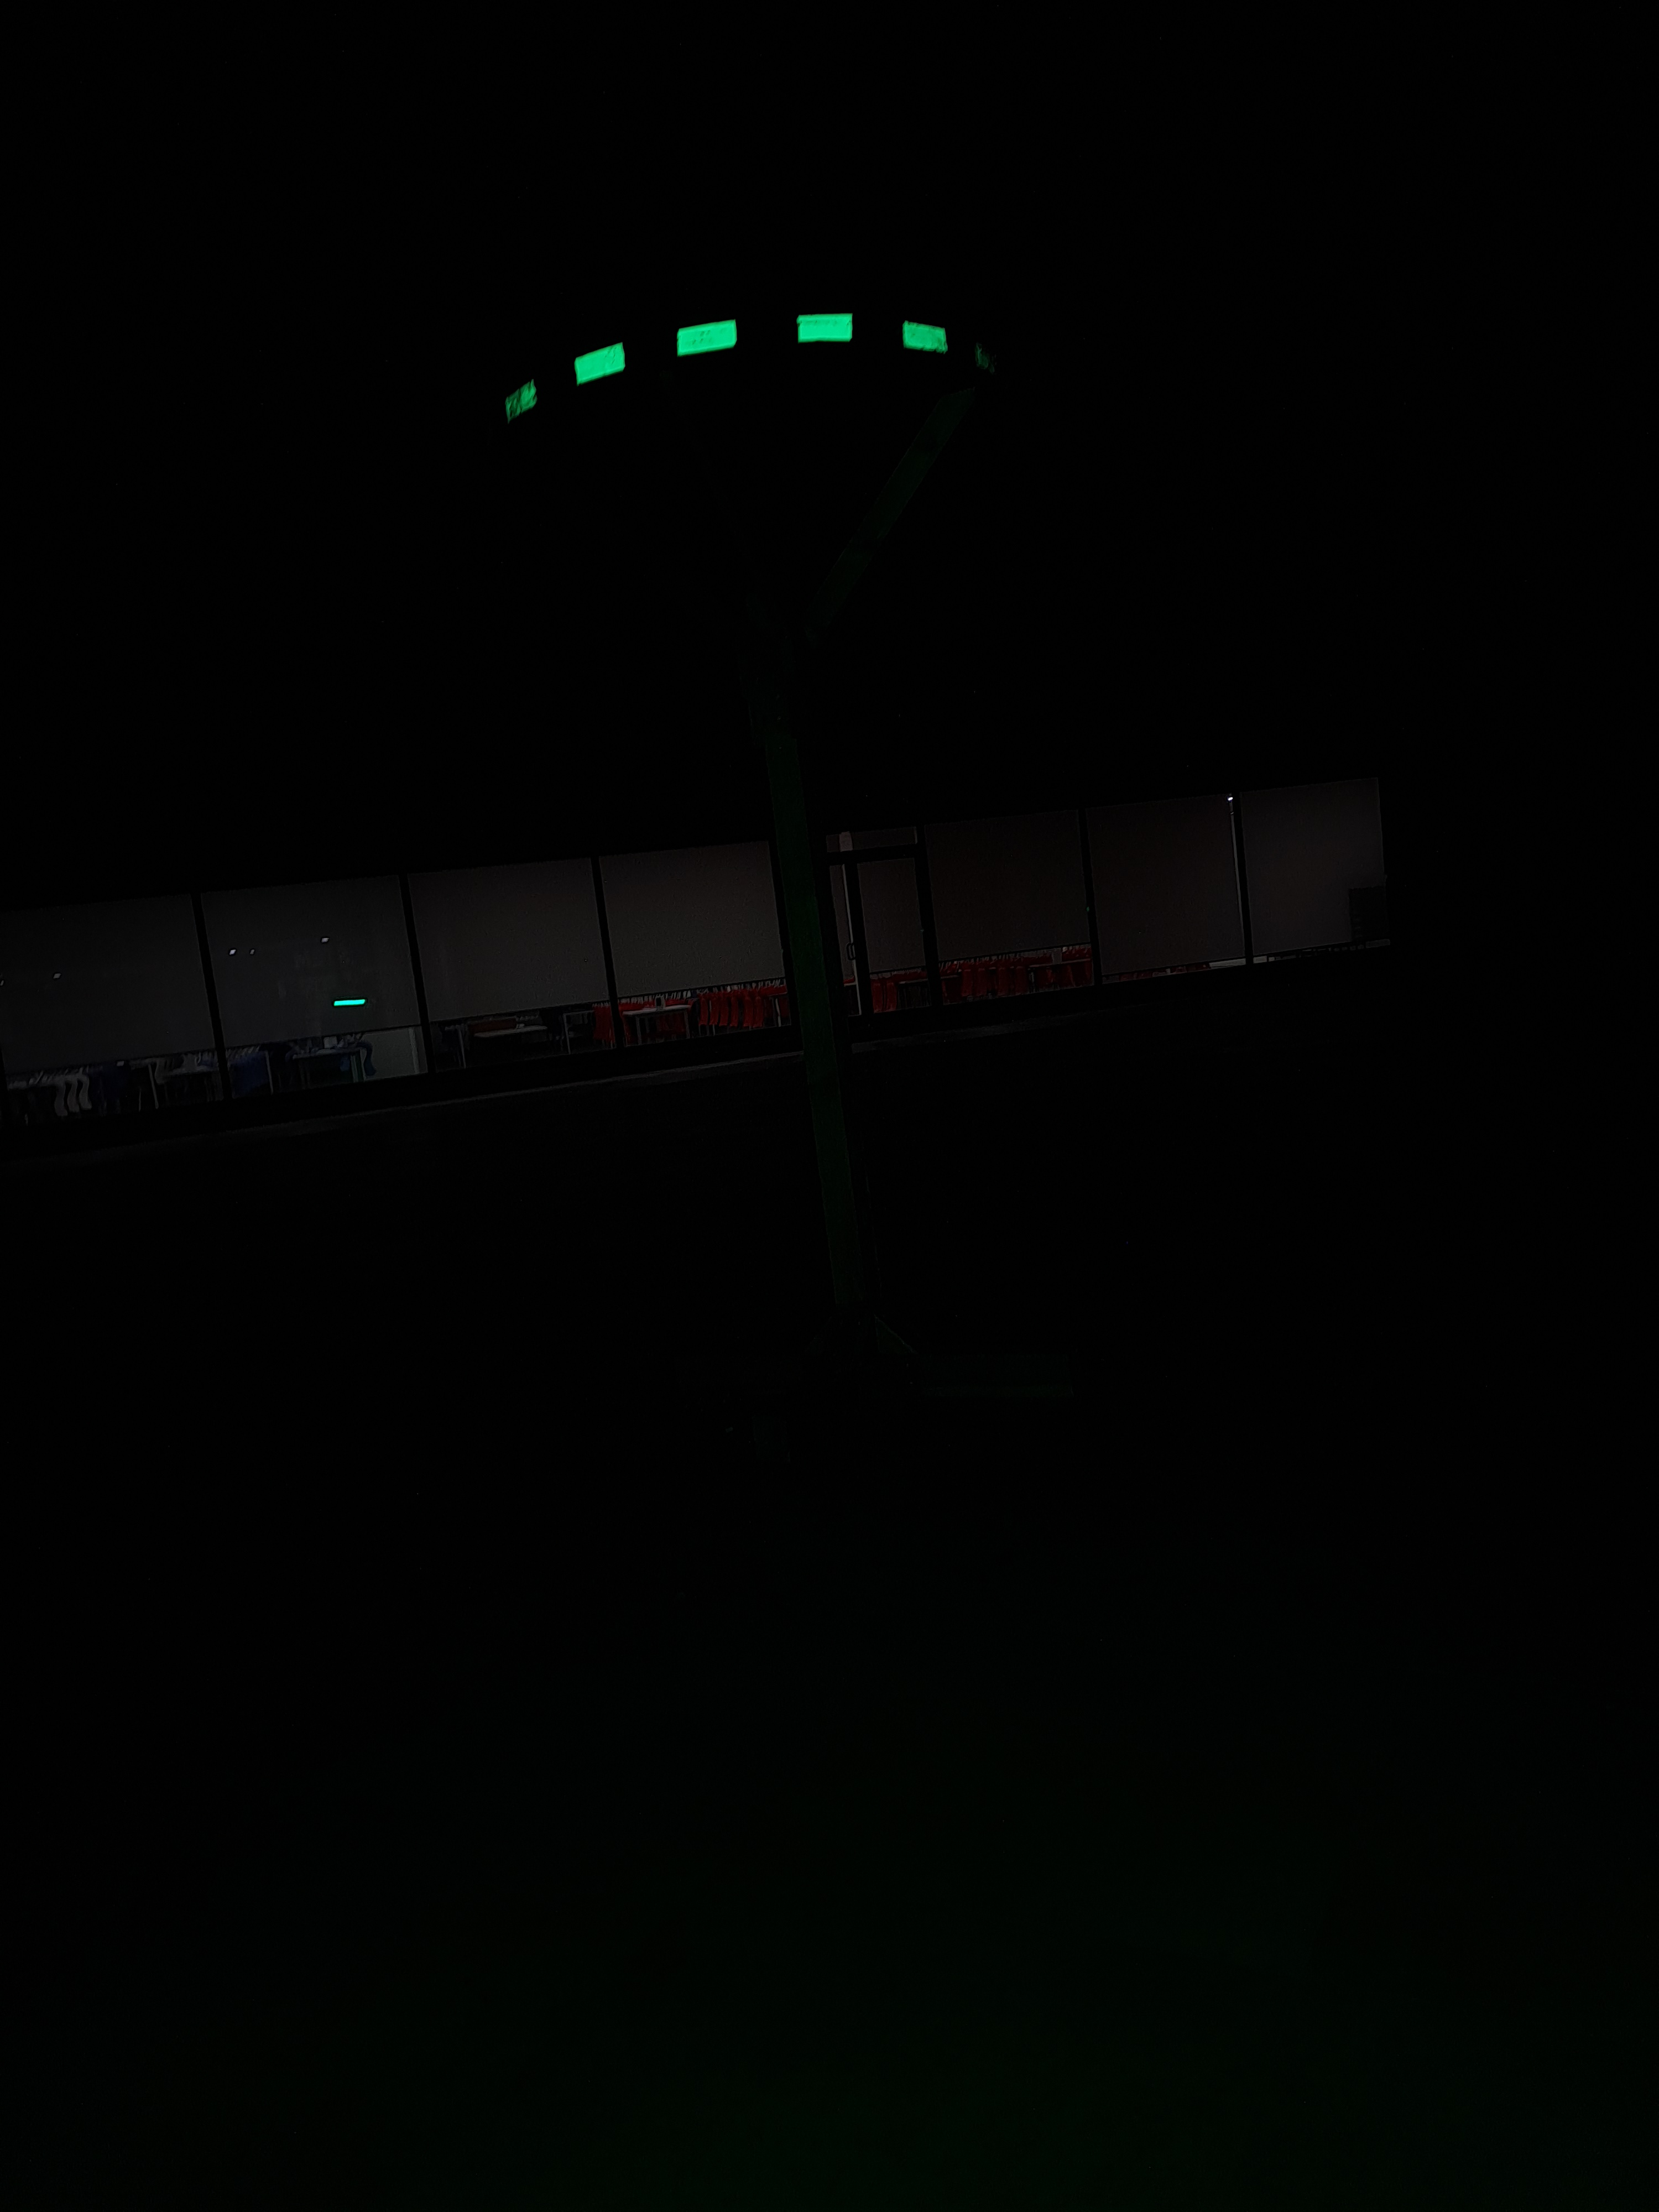hoop: (471, 308, 1006, 428)
